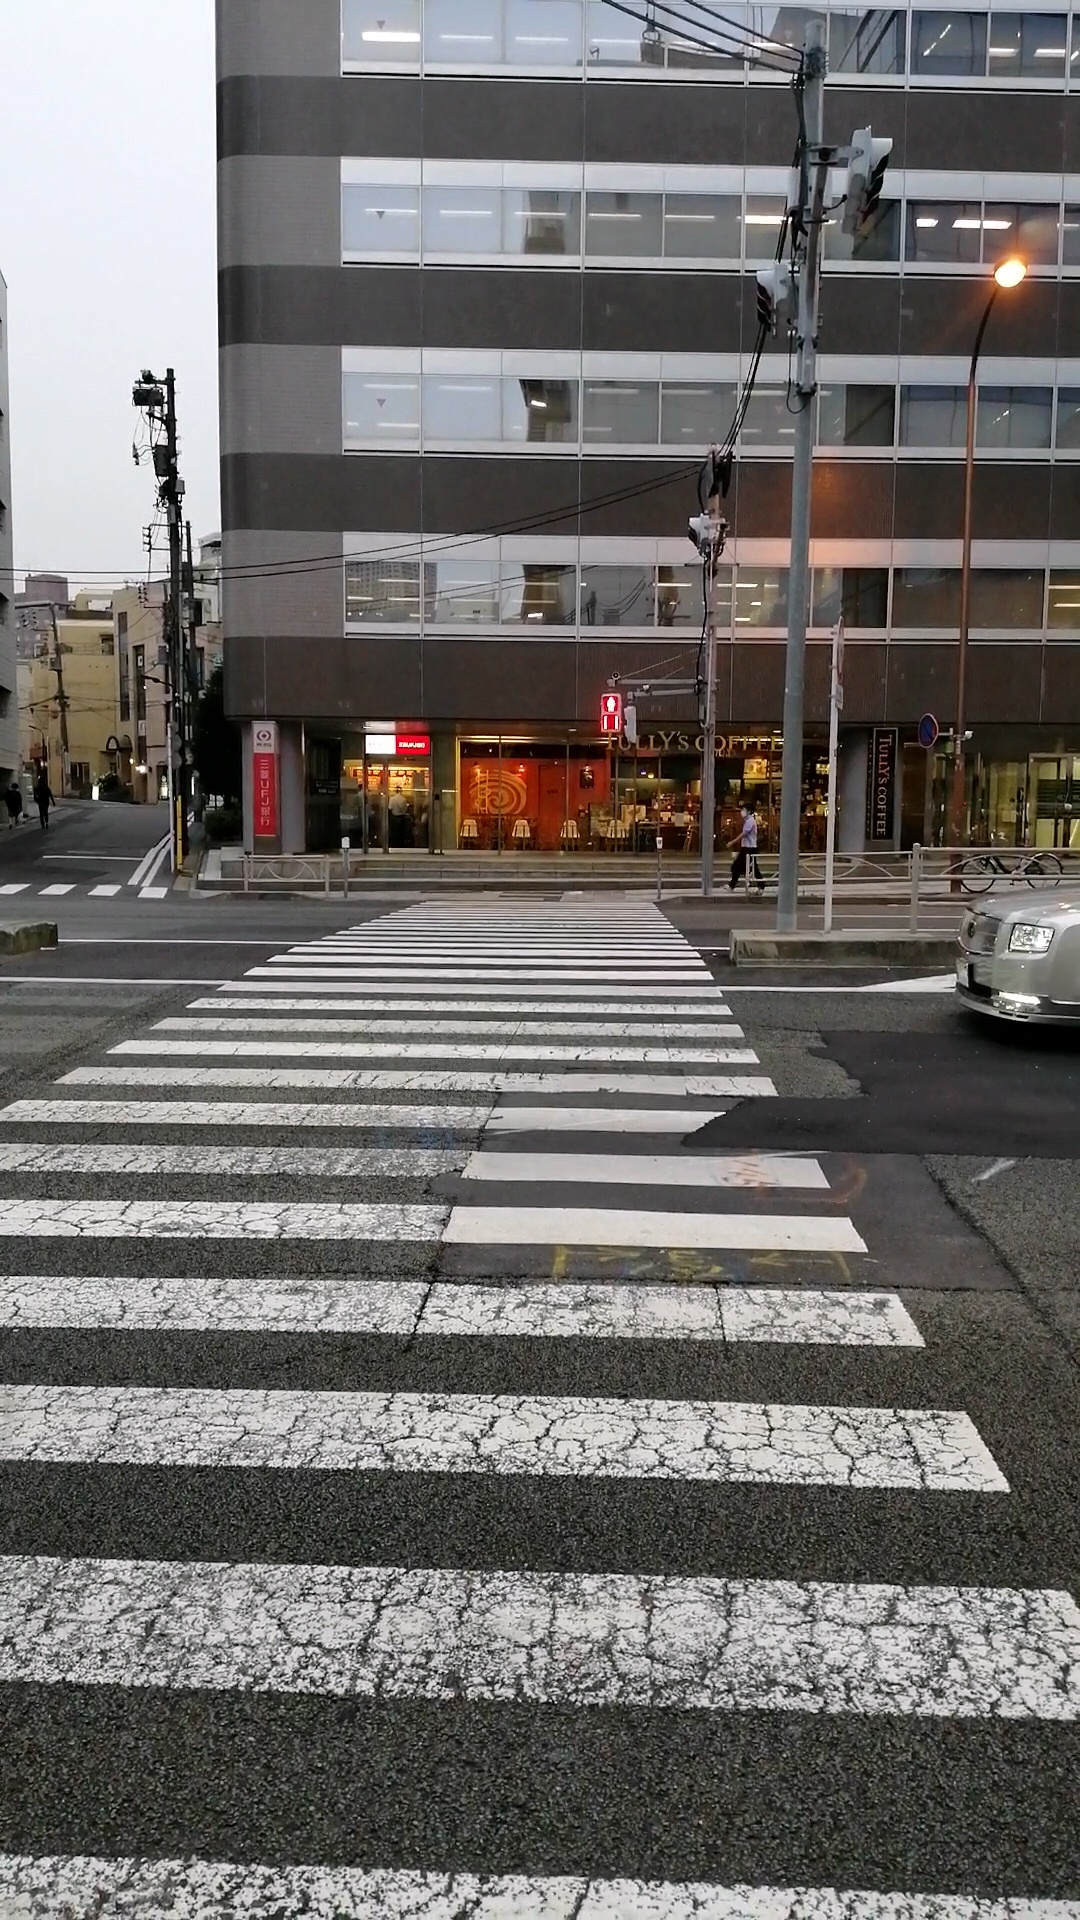red: (599, 694, 622, 732)
